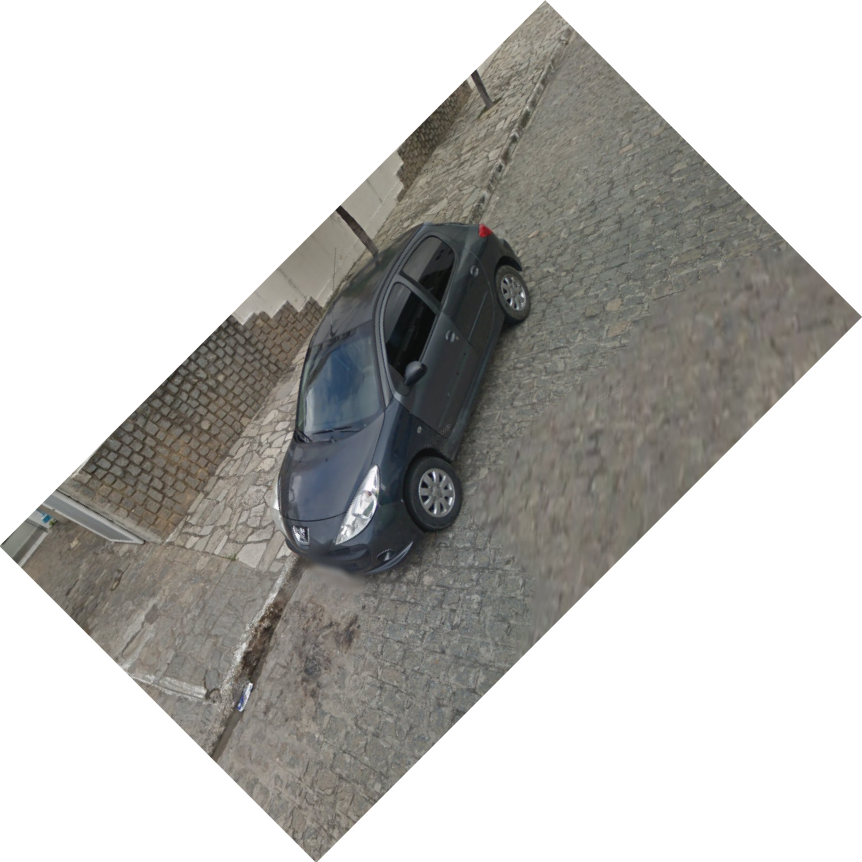car: (276, 221, 532, 579)
